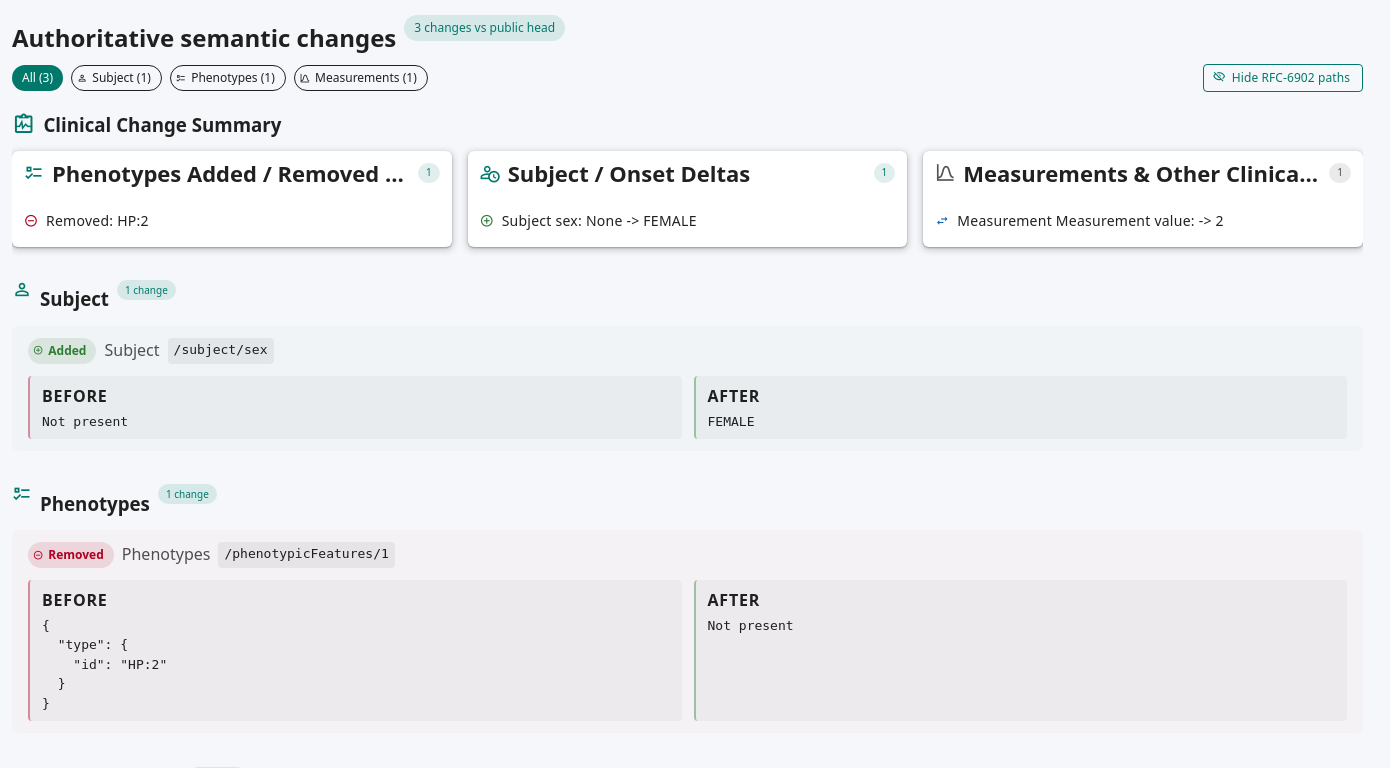
Test: SemanticDiff › toggles raw RFC-6902 path visibility with data-testid="toggle-raw-diff" while keeping elements accessible in DOM
Click the button with test id "toggle-raw-diff" at x=1283, y=78, box [1203,64,1363,92]
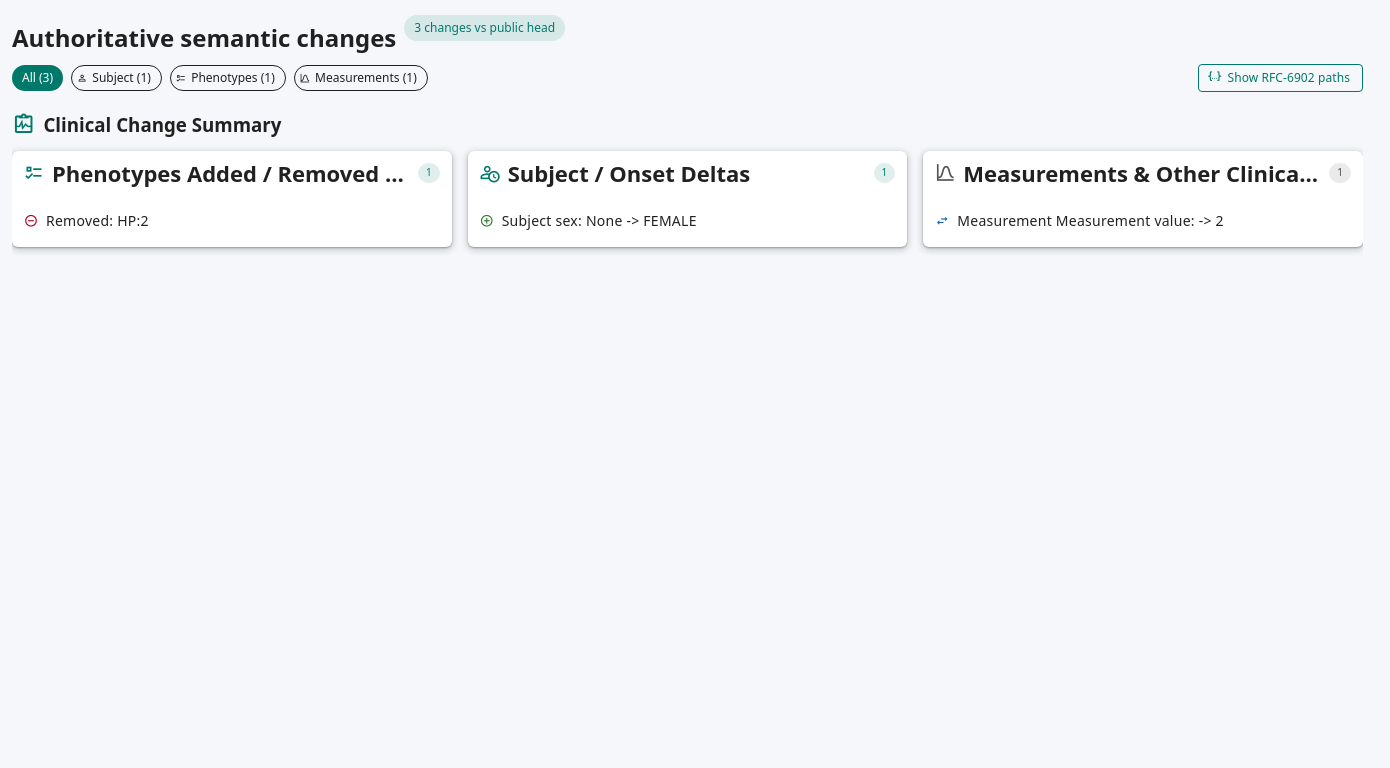
Expected: the button with test id "toggle-raw-diff" reads "Show RFC-6902 paths"
Click the button with test id "toggle-raw-diff" at x=1281, y=78, box [1198,64,1363,92]
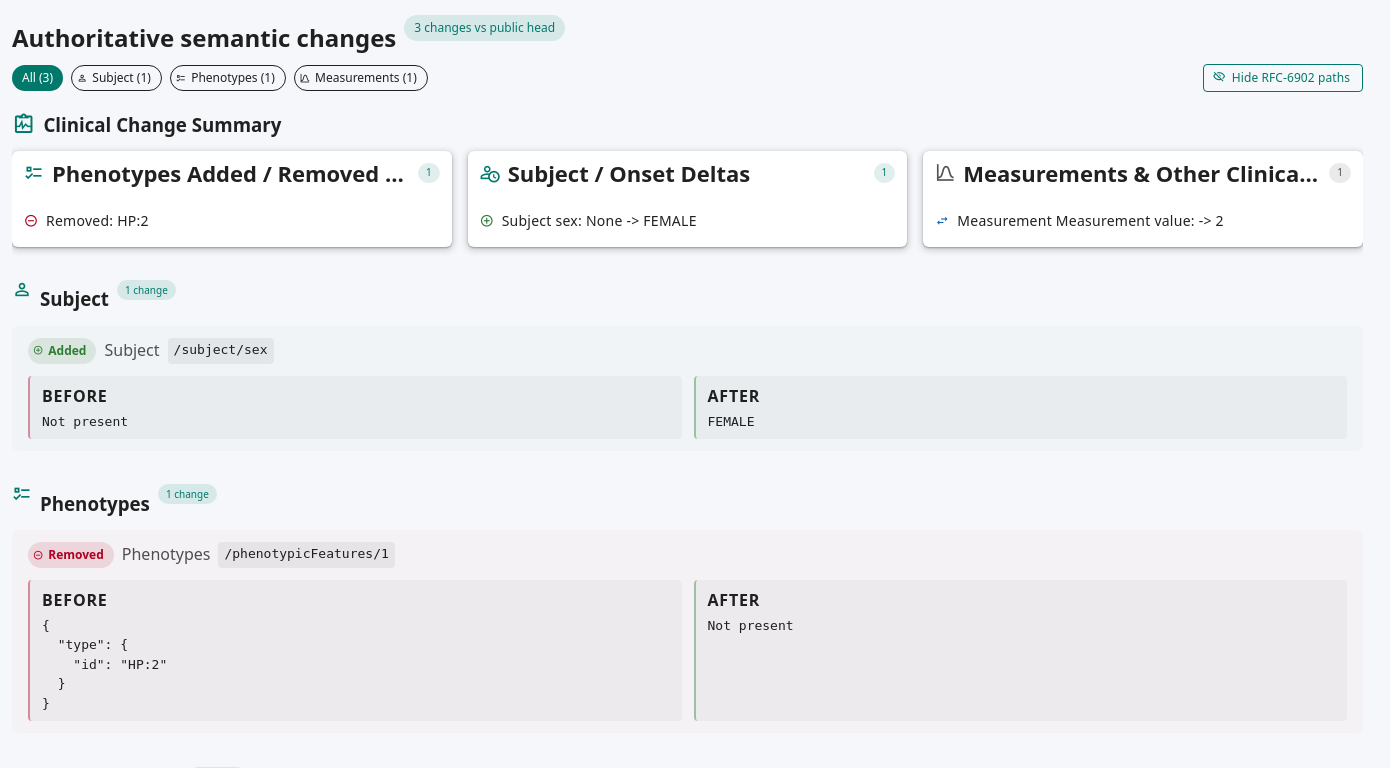
Expected: the button with test id "toggle-raw-diff" reads "Hide RFC-6902 paths", [1203,64,1363,92]
